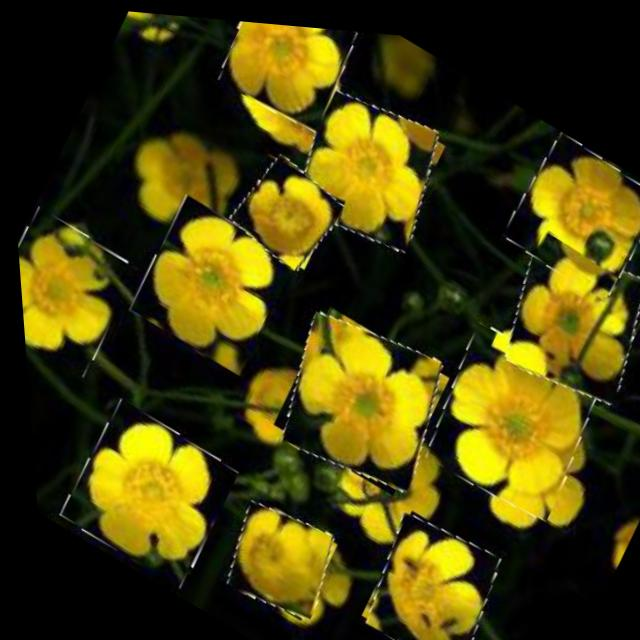Flower: (404, 305, 609, 522), (251, 288, 458, 502), (44, 391, 239, 592), (272, 66, 458, 261), (117, 188, 299, 379), (476, 212, 640, 409), (492, 115, 640, 297), (341, 495, 505, 640), (12, 203, 141, 382), (204, 486, 339, 625), (209, 15, 367, 133), (219, 141, 347, 275)
